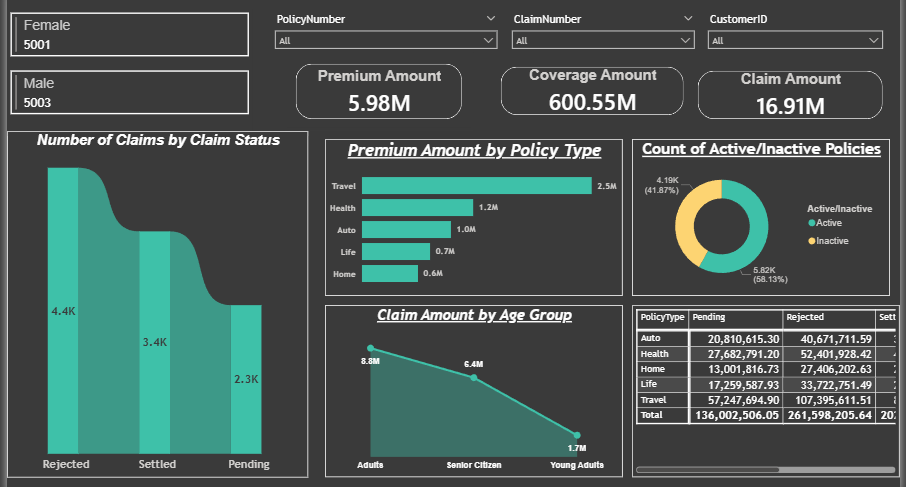

This screenshot's page, from the dashboard's own definition file:
{"tool":"powerbi","page":{"name":"Page 1","canvas":[1280,720],"ordinal":0},"visuals":[{"type":"slicer","fields":{"Values":["InsuranceData.PolicyNumber"]},"box":[374.3,25.5,339.3,71.7],"z":0},{"type":"slicer","fields":{"Values":["InsuranceData.ClaimNumber"]},"box":[713.6,25.5,281.9,71.7],"z":1000},{"type":"slicer","fields":{"Values":["InsuranceData.CustomerID"]},"box":[995.6,25.5,270.8,70.1],"z":2000},{"type":"cardVisual","fields":{"Data":["Measures (2).Premium Amount"]},"box":[396.6,87.6,272.4,113.1],"z":3000},{"type":"cardVisual","fields":{"Data":["Measures (2).Coverage Amount"]},"box":[691.3,92.4,296.3,103.5],"z":4000},{"type":"cardVisual","fields":{"Data":["Measures (2).Claim Amount"]},"box":[973.3,97.2,299.5,103.5],"z":5000},{"type":"multiRowCard","fields":{"Values":["InsuranceData.Gender","CountNonNull(InsuranceData.Gender)"]},"box":[0,25.5,352,186.4],"z":6000},{"type":"ribbonChart","title":"Number of Claims by Claim Status ","fields":{"Category":["InsuranceData.ClaimStatus"],"Y":["CountNonNull(InsuranceData.ClaimStatus)"]},"box":[0,200.7,431.7,497],"z":7000},{"type":"barChart","title":"Premium Amount by Policy Type","fields":{"Category":["InsuranceData.PolicyType"],"Y":["Sum(InsuranceData.PremiumAmount)"]},"box":[455.6,211.9,426.9,224.6],"z":8000},{"type":"lineChart","title":"Claim Amount by Age Group","fields":{"Category":["InsuranceData.Age Group"],"Y":["Sum(InsuranceData.ClaimAmount)"]},"box":[455.6,450.8,426.9,246.9],"z":9000},{"type":"donutChart","title":"Count of Active/Inactive Policies","fields":{"Category":["InsuranceData.Active/Inactive "],"Y":["CountNonNull(InsuranceData.Active/Inactive )"]},"box":[896.8,211.9,369.6,224.6],"z":10000},{"type":"pivotTable","fields":{"Values":["Sum(InsuranceData.CoverageAmount)"],"Rows":["InsuranceData.PolicyType"],"Columns":["InsuranceData.ClaimStatus"]},"box":[896.8,450.8,383.9,246.9],"z":11000}]}

Visuals, with their boxes in screenshot pixels (x1, y1, x2, y2):
slicer - InsuranceData.PolicyNumber: 265,18,500,67
slicer - InsuranceData.ClaimNumber: 500,18,694,67
slicer - InsuranceData.CustomerID: 694,18,881,66
cardVisual - Measures (2).Premium Amount: 281,60,469,139
cardVisual - Measures (2).Coverage Amount: 484,64,689,135
cardVisual - Measures (2).Claim Amount: 679,67,886,139
multiRowCard - InsuranceData.Gender x CountNonNull(InsuranceData.Gender): 7,18,250,146
"Number of Claims by Claim Status " ribbonChart: 7,139,305,482
"Premium Amount by Policy Type" barChart: 322,146,616,301
"Claim Amount by Age Group" lineChart: 322,311,616,482
"Count of Active/Inactive Policies" donutChart: 626,146,881,301
pivotTable - Sum(InsuranceData.CoverageAmount) x InsuranceData.PolicyType: 626,311,891,482
